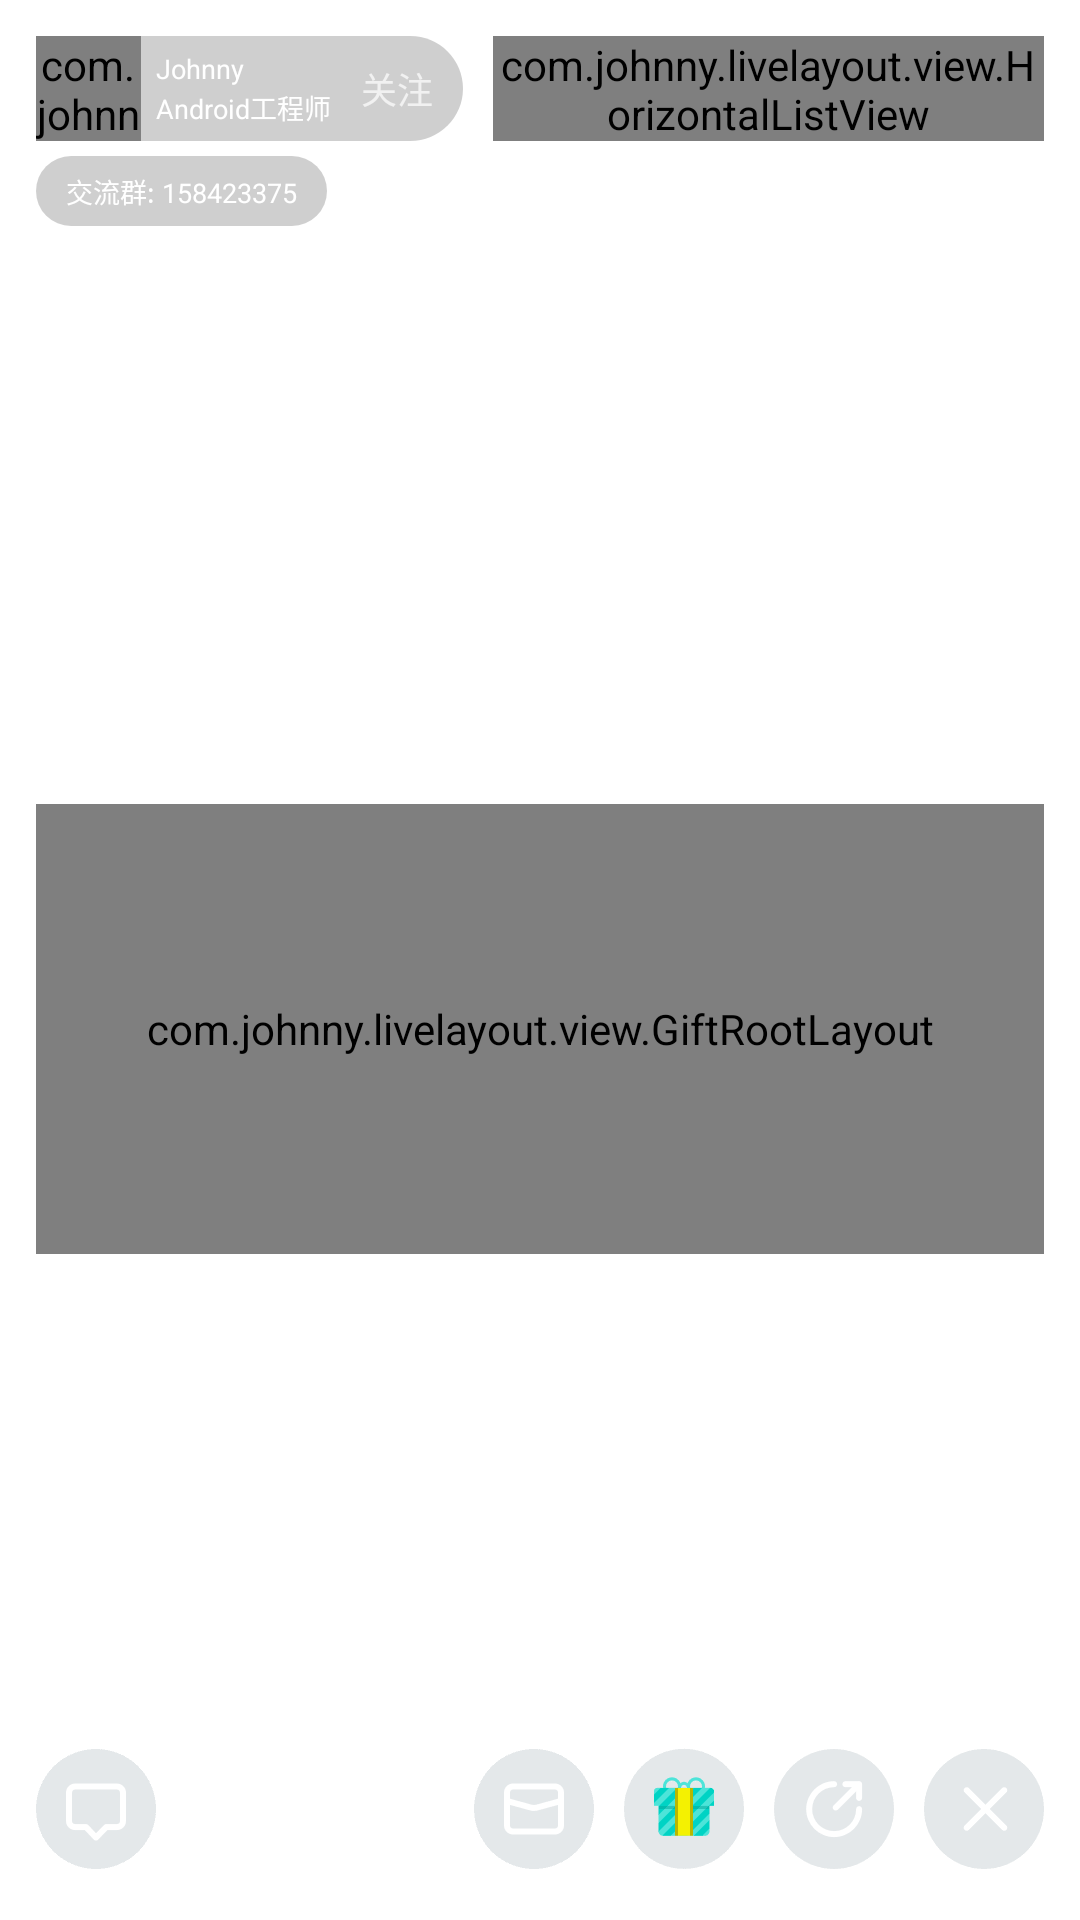

Named icons in this screenshot (1080×1920) and their bounding boxes, Rect(x1, y1, x2, y2):
close: Rect(924, 1749, 1044, 1869)
gift: Rect(624, 1749, 744, 1869)
privatechat: Rect(474, 1749, 594, 1869)
publicchat: Rect(36, 1749, 156, 1869)
share: Rect(774, 1749, 894, 1869)
